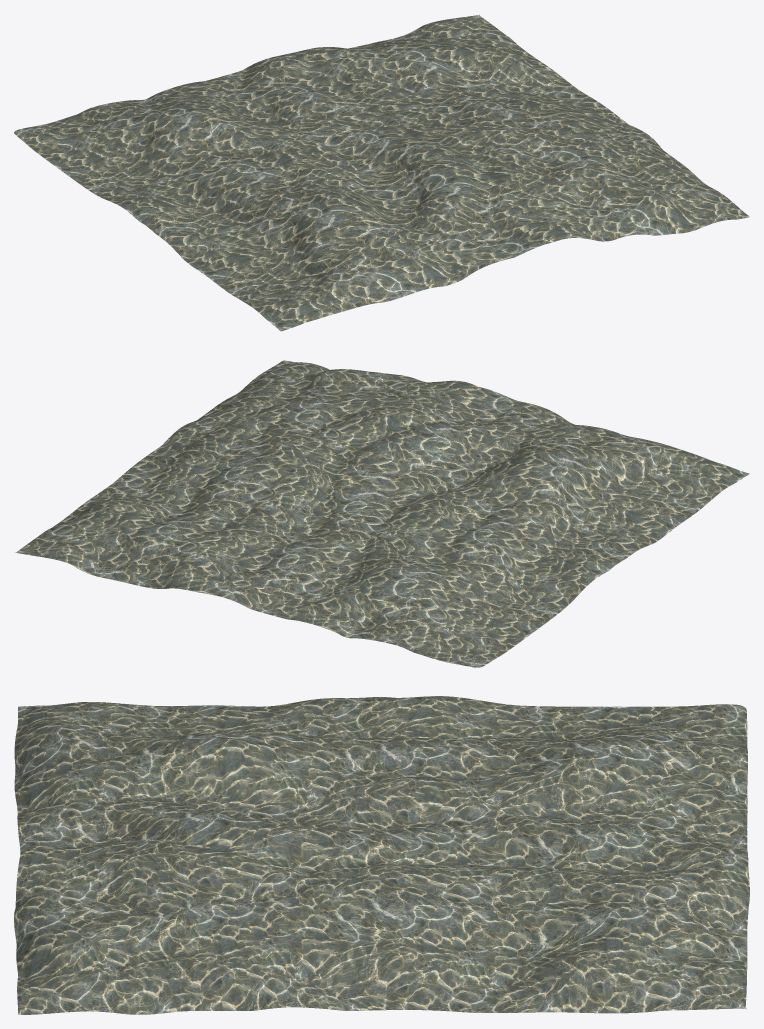
The model's file is pool.obj.
3 renders of one model, top to bottom at view 1: azimuth 30°, elevation 25°; view 2: azimuth 150°, elevation 25°; view 3: azimuth 270°, elevation 25°, orthographic. The views are drawn at different scales.
Visible parts, largest first — view 1: Plane.001; view 2: Plane.001; view 3: Plane.001.
Boxes of the visible parts, x1,y1,x2,y2 form: Plane.001: [14, 15, 749, 331]; Plane.001: [15, 360, 749, 667]; Plane.001: [14, 696, 749, 1014].
Size of the model in its own units: 14.45 by 1.12 by 14.53.
